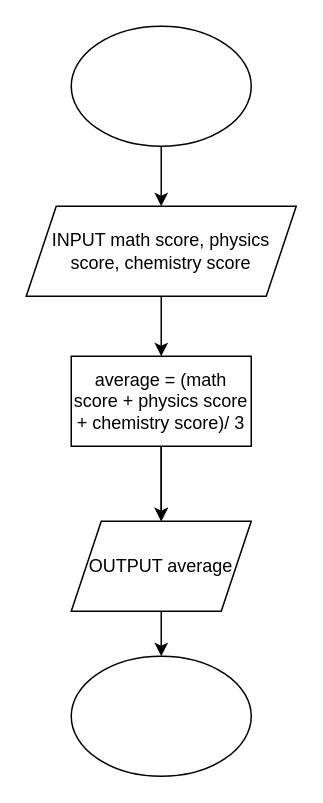
Image size: 323x803. Some labels were removed from this diagram. The centre of each missing label's shape, as x and y in pixels:
"END" belongs at pixel 160 715.
"START" belongs at pixel 160 85.
